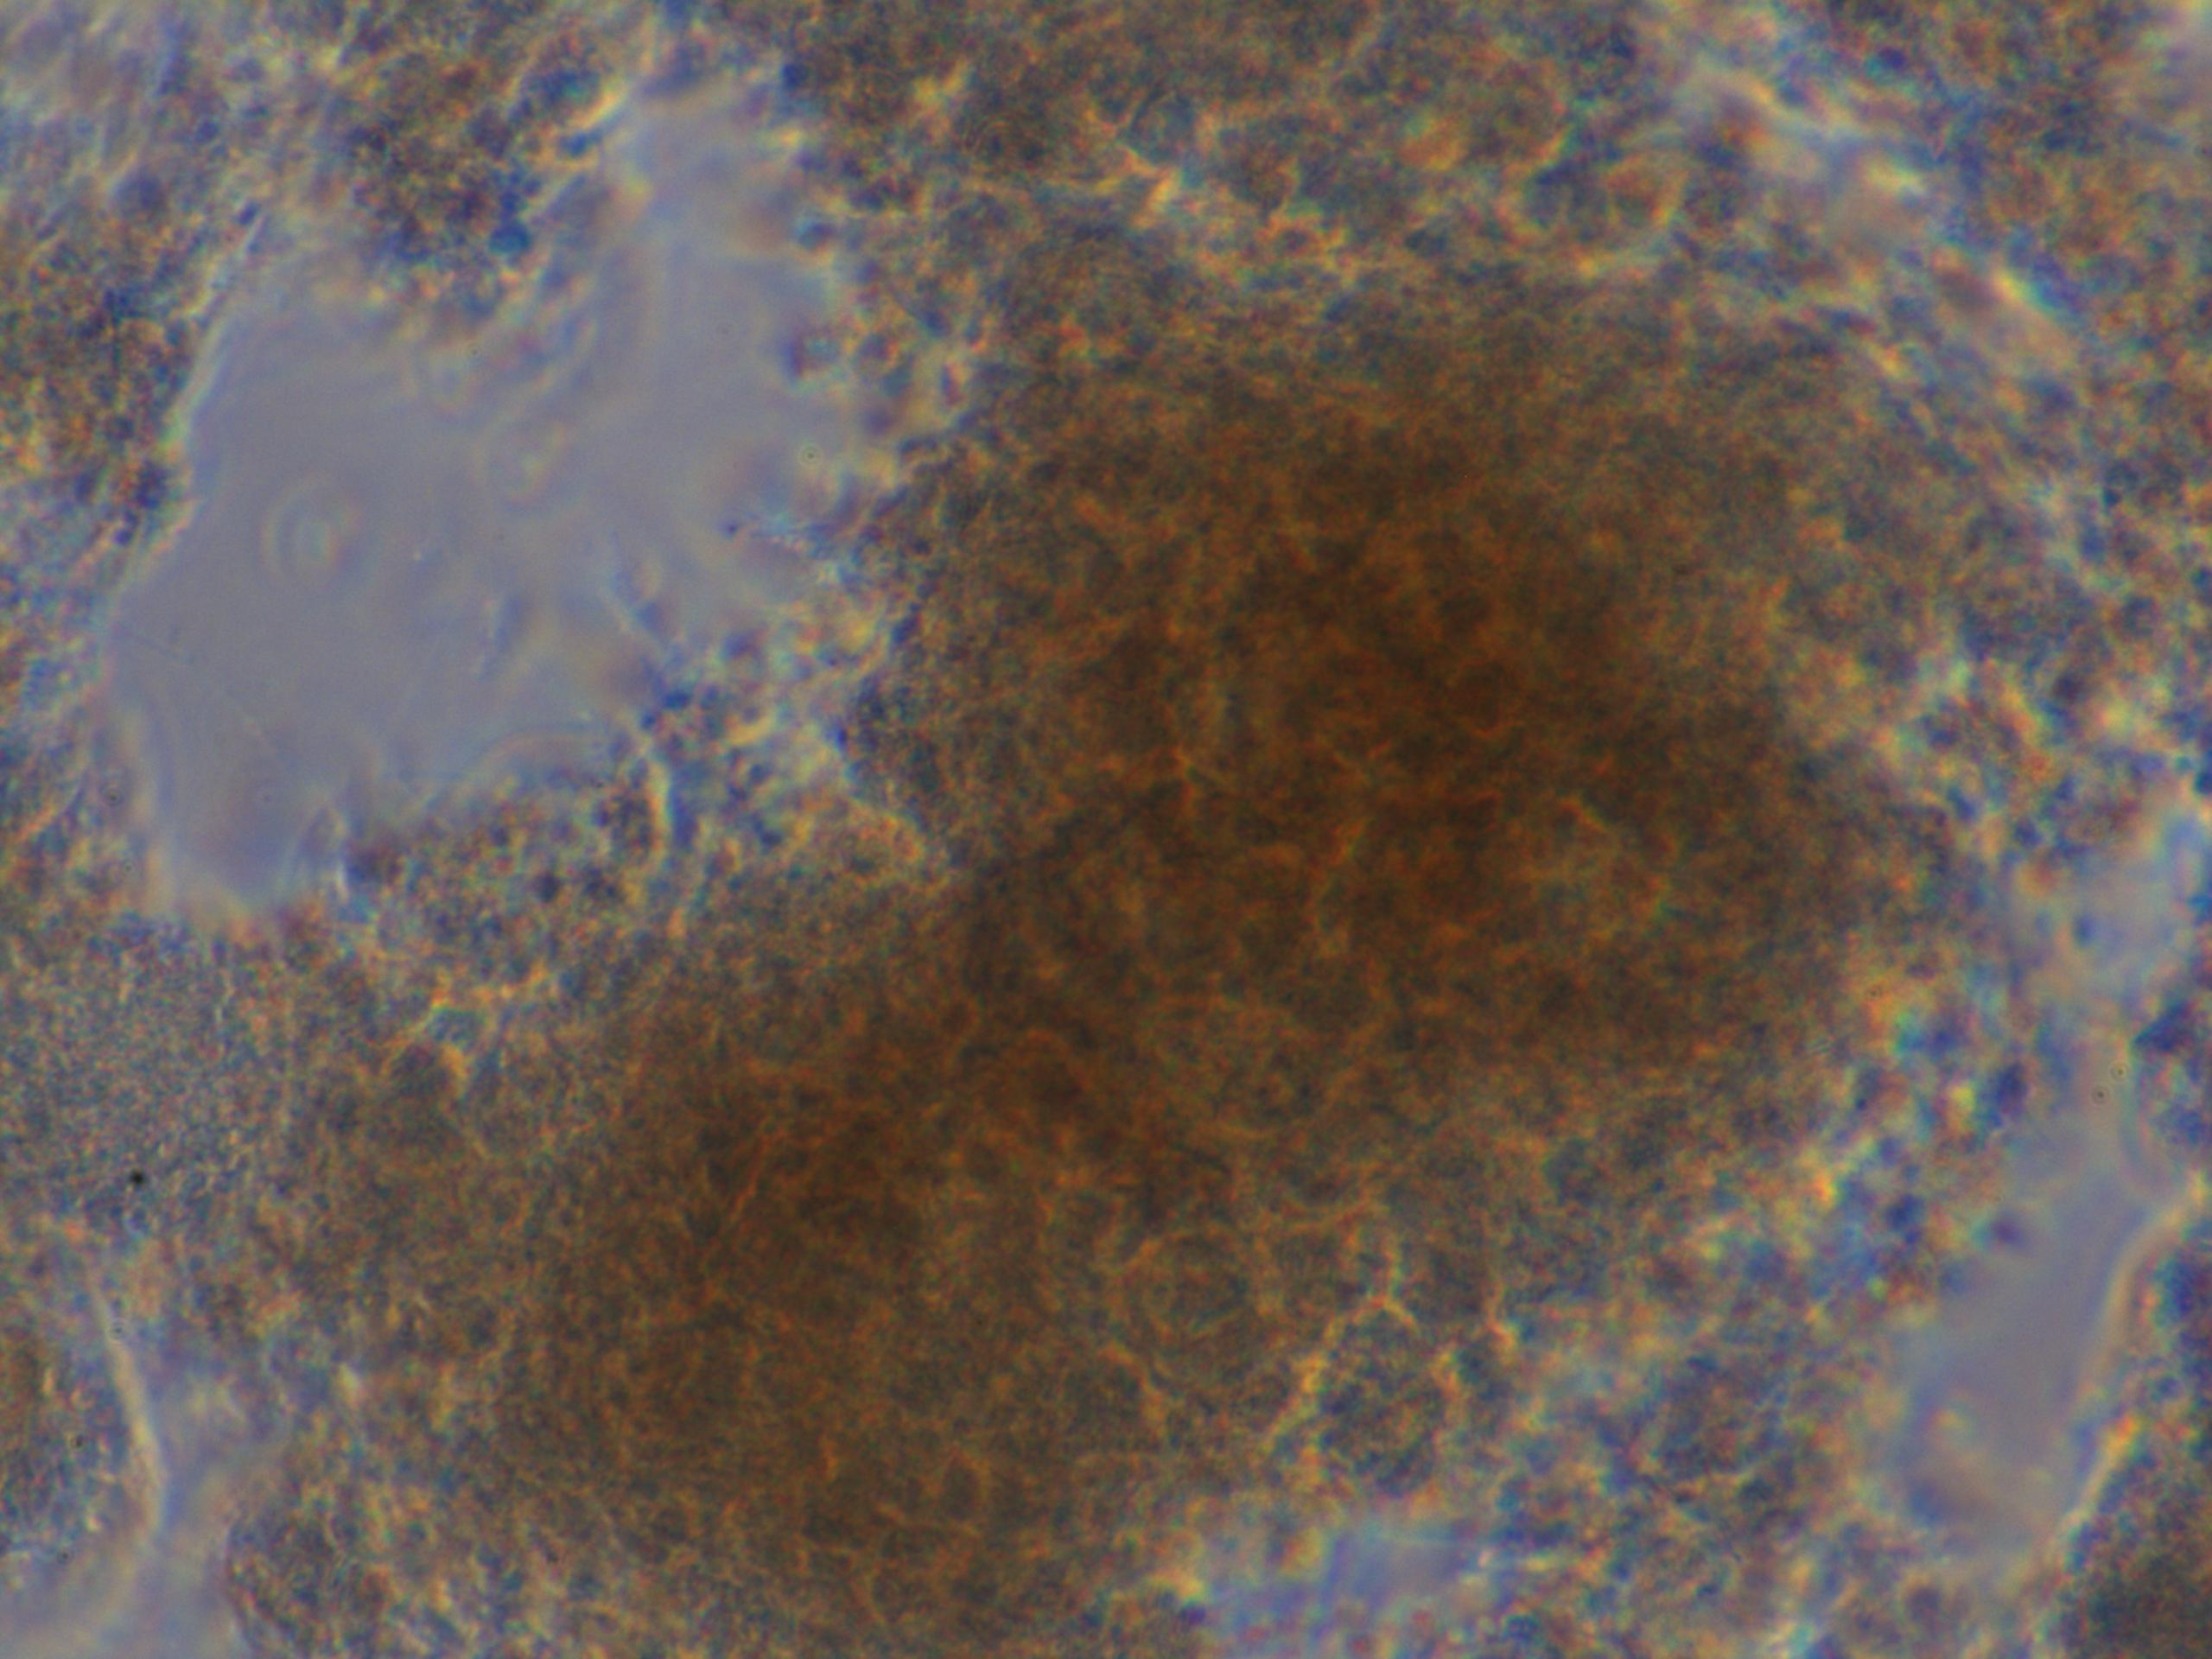open_floc: (350, 239, 1959, 1659)
